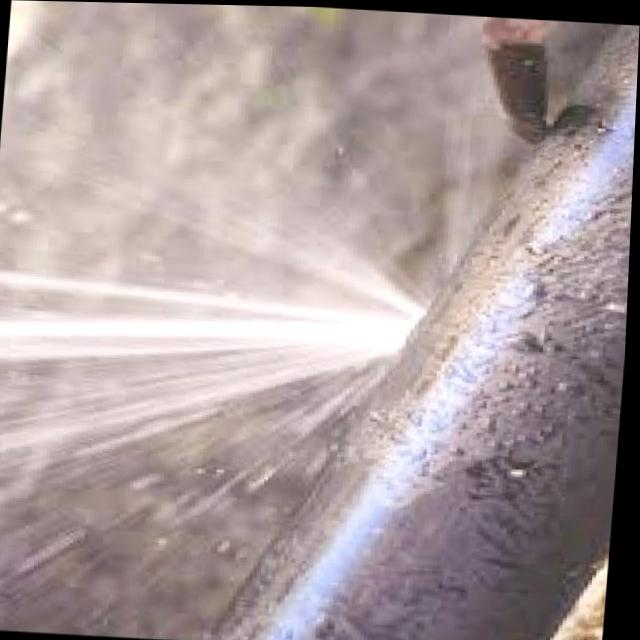leak: (0, 0, 621, 633)
